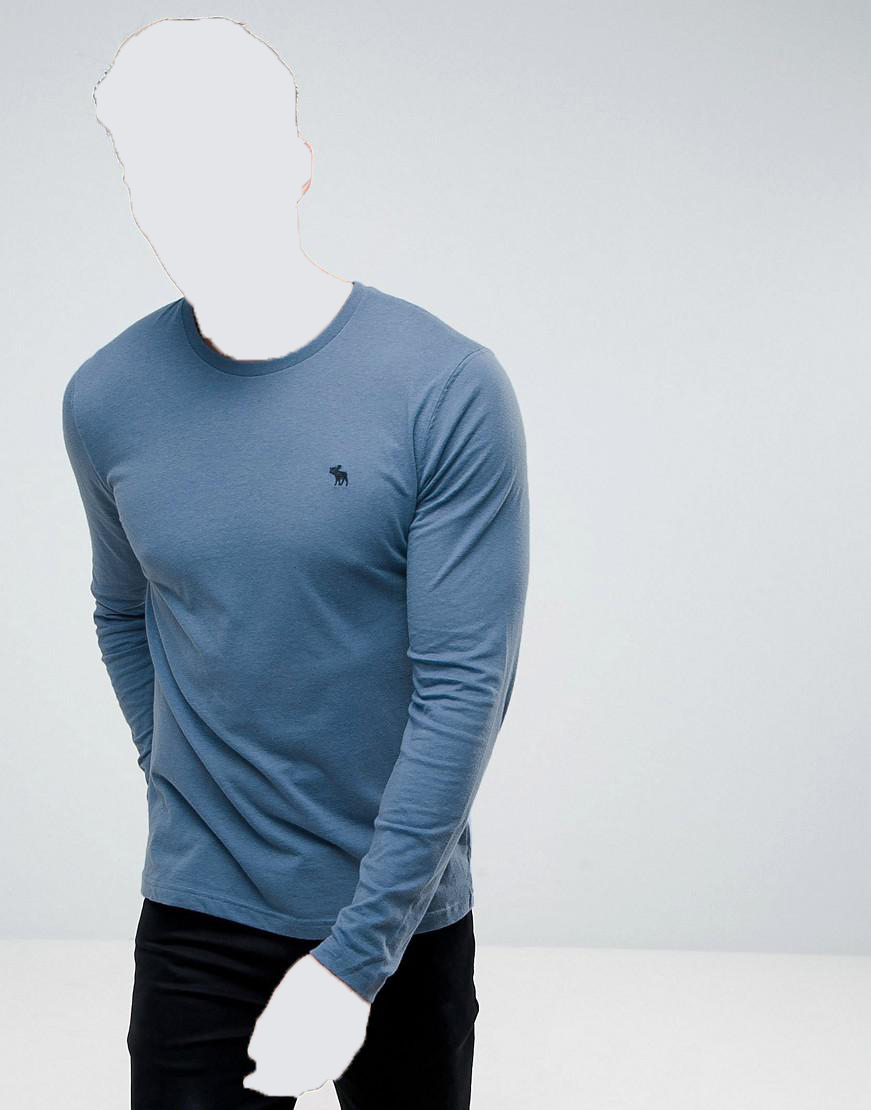teeshirt: (54, 279, 535, 1001)
